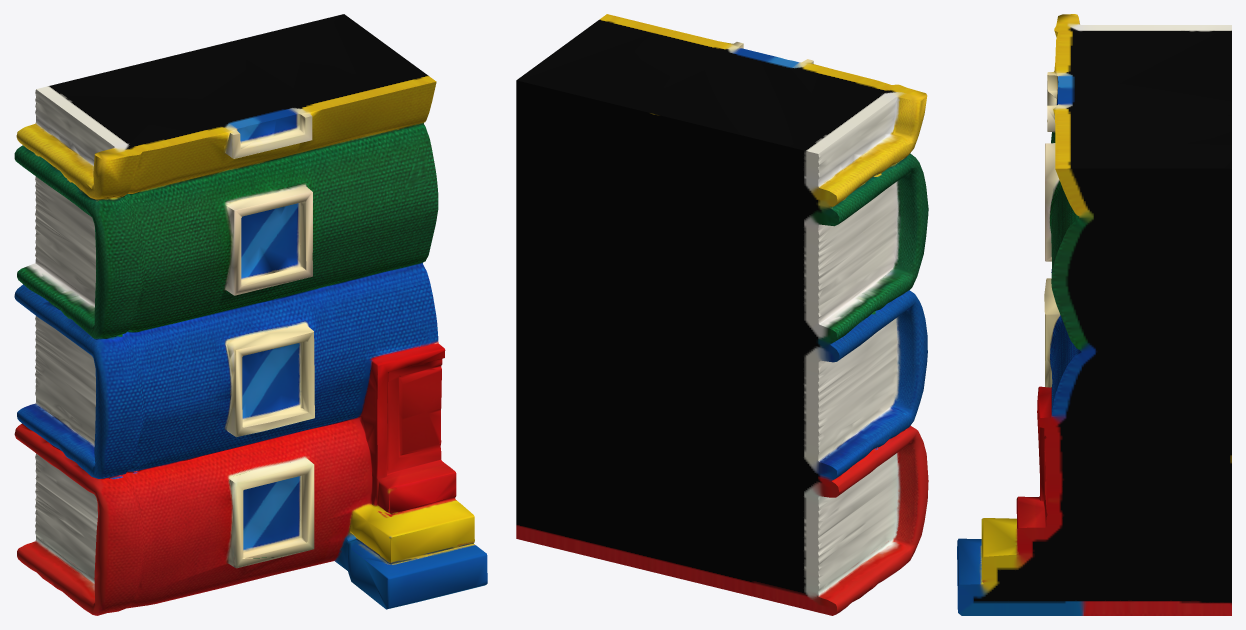
Rendered from 1-ground-floor-front-left.fbx.
3 renders of one model, left to right at view 1: azimuth 30°, elevation 25°; view 2: azimuth 150°, elevation 25°; view 3: azimuth 270°, elevation 25°, orthographic. The views are drawn at different scales.
Parts seen in each view (by area): view 1: ground-floor-front-left; view 2: ground-floor-front-left; view 3: ground-floor-front-left.
Part boxes in pixels (box(x1,y1,x2,y2)): ground-floor-front-left: box(14, 14, 487, 615); ground-floor-front-left: box(516, 14, 928, 615); ground-floor-front-left: box(957, 14, 1231, 615).
Bounding box in the file's own units: 5526 × 7452 × 4149.
1 material, 1 textured.
